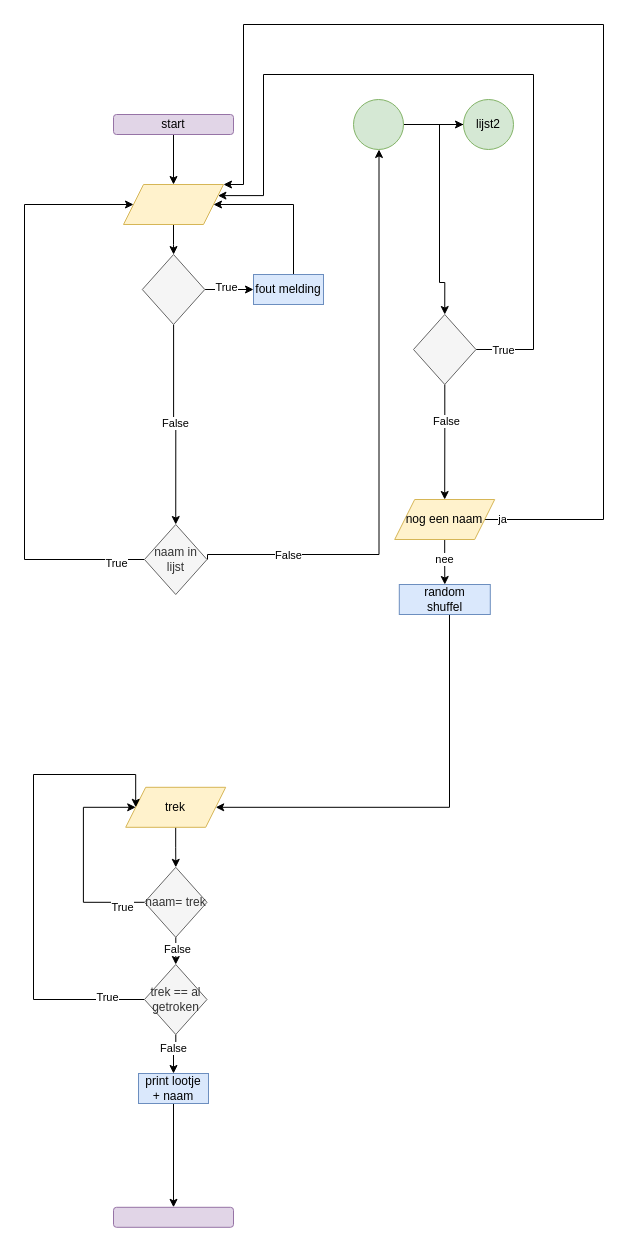
The diagram is 629 pixels wide and 1245 high, and some of its shapes have lost their labels. Each missing label, with the centre of its shape:
aantal namen < 3: (x=444, y=349)
lijst1: (x=378, y=124)
naam is int: (x=173, y=289)
namen: (x=173, y=204)
stop: (x=173, y=1216)
